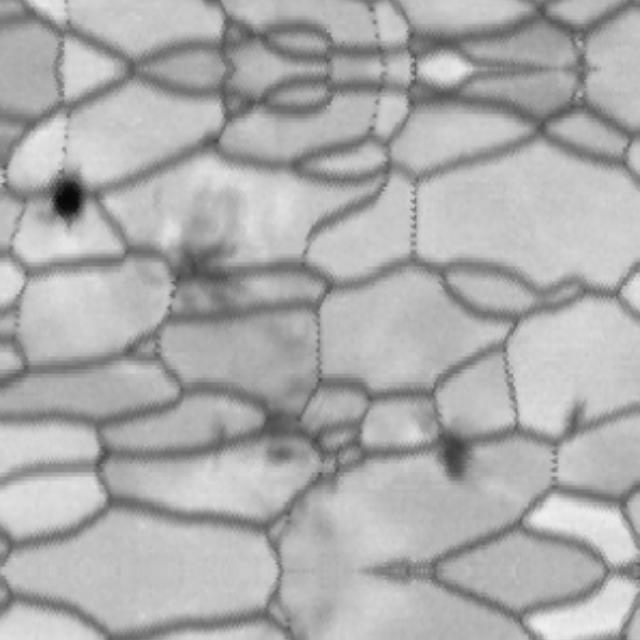good_void: (148, 179, 256, 314), (248, 395, 333, 479), (37, 154, 100, 237), (427, 411, 489, 494), (550, 390, 603, 448), (48, 172, 90, 233)
